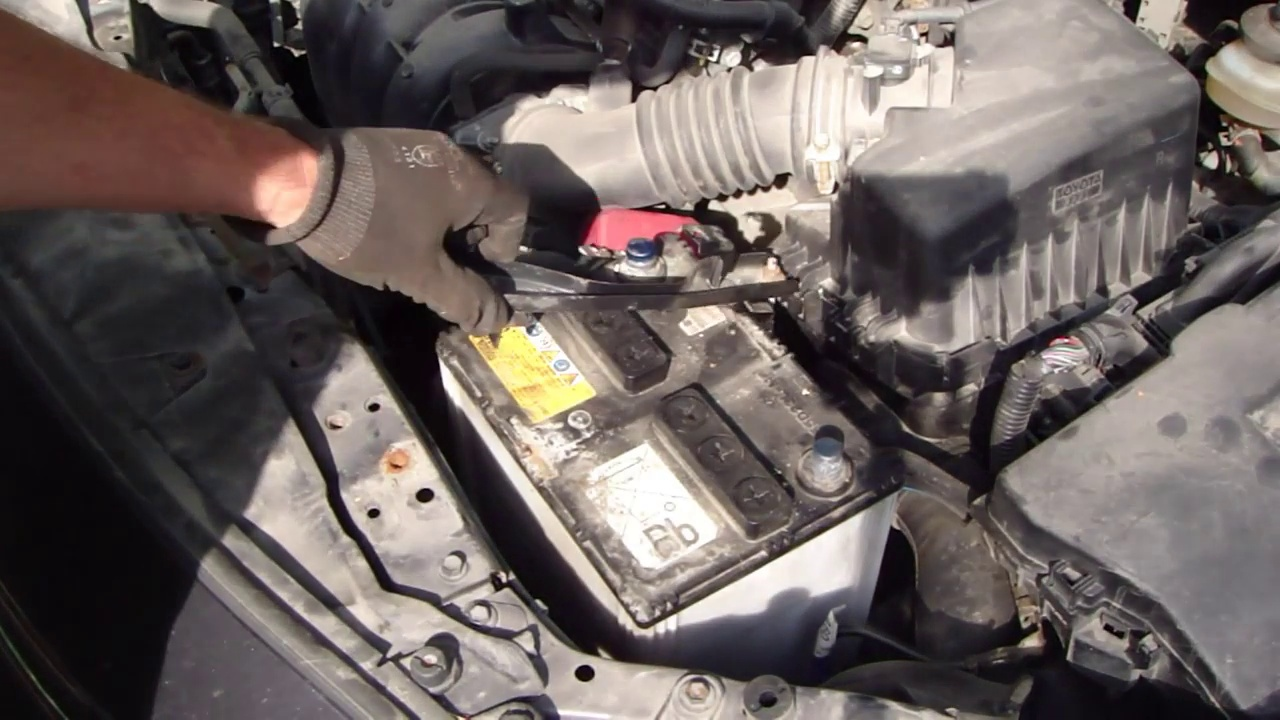battery: (426, 233, 895, 618)
neg_disconnected: (774, 409, 878, 513)
pos_disconnected: (576, 175, 718, 300)
